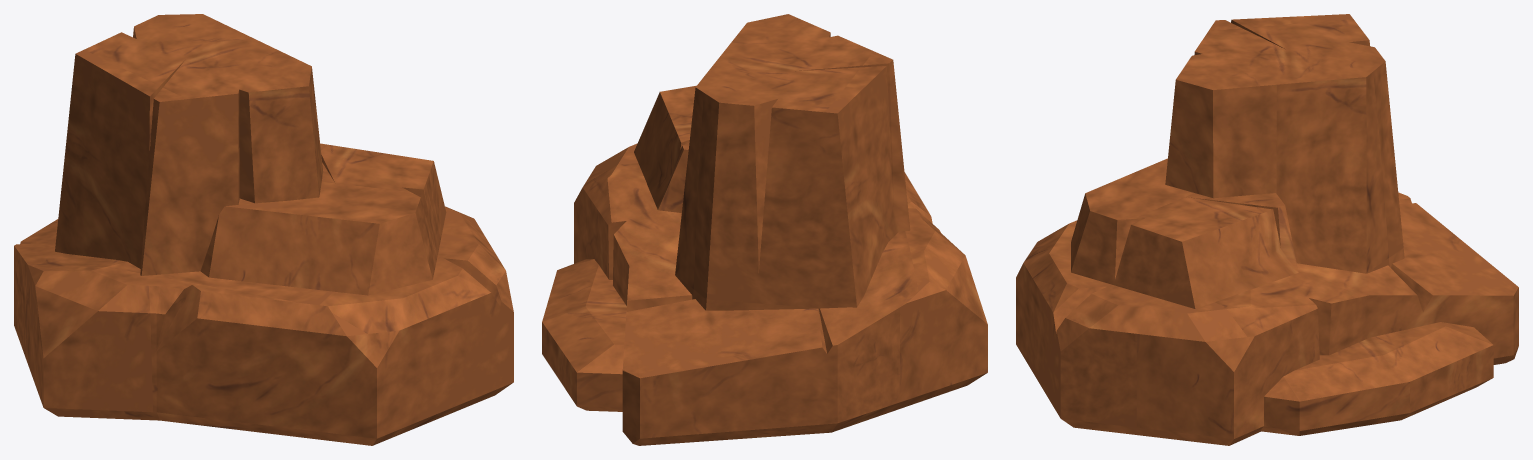
Rendered from rock4.fbx.
The picture shows the model from 3 angles, left to right: view 1: azimuth 30°, elevation 25°; view 2: azimuth 150°, elevation 25°; view 3: azimuth 270°, elevation 25°; orthographic projection. The views are drawn at different scales.
Parts seen in each view (by area): view 1: 4; view 2: 4; view 3: 4.
Boxes of the visible parts, bbox=[...] form: 4: bbox=[14, 14, 513, 445]; 4: bbox=[542, 14, 987, 445]; 4: bbox=[1016, 14, 1518, 445].
Size of the model in its own units: 63.4 by 44.28 by 68.8.
Materials: 1 (1 with a texture image).
